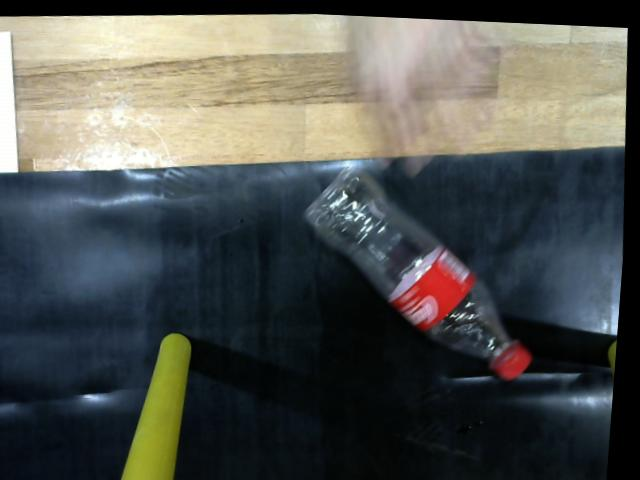bottle: (294, 156, 546, 392)
